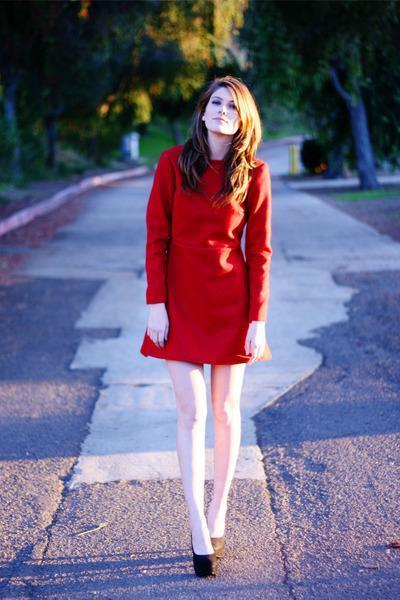dress: (140, 145, 273, 371)
shoe: (192, 551, 215, 578)
